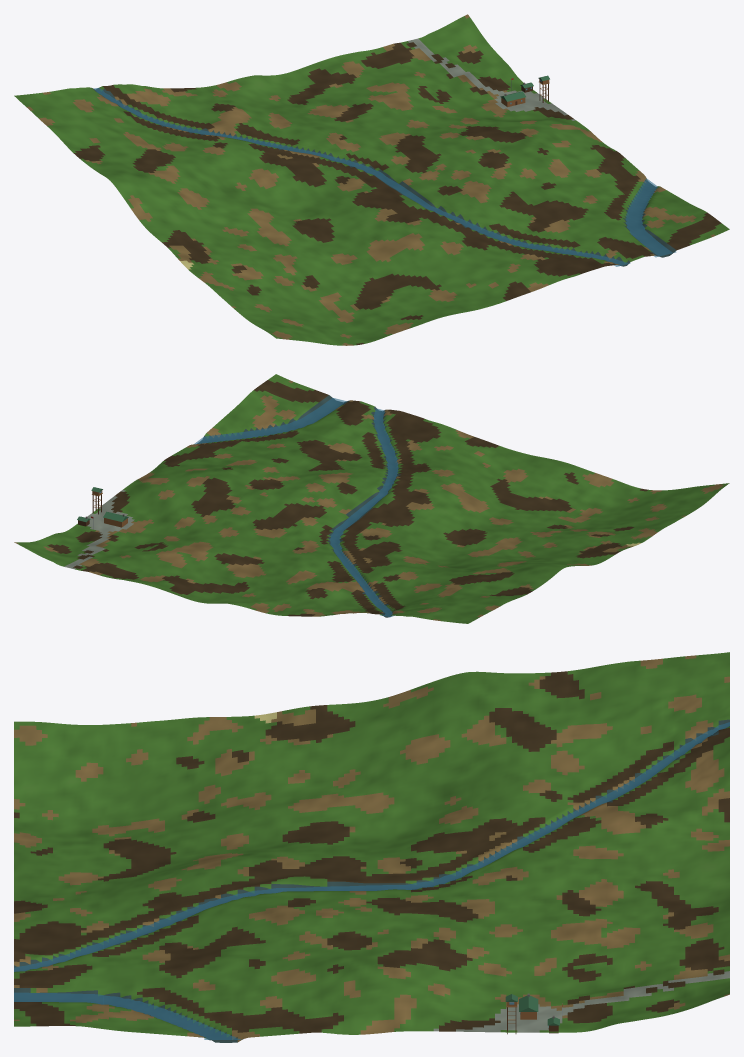
File: chunk_1_3.glb
The picture shows the model from 3 angles, top to bottom: view 1: azimuth 30°, elevation 25°; view 2: azimuth 150°, elevation 25°; view 3: azimuth 270°, elevation 25°; orthographic projection. The views are drawn at different scales.
Visible parts, largest first — view 1: Surface_Grass, Surface_Mud, Surface_Dirt, Surface_Water, Water, Surface_Gravel, Structure_pinewatch_station; view 2: Surface_Grass, Surface_Mud, Surface_Dirt, Surface_Water, Water, Surface_Gravel, Structure_pinewatch_station; view 3: Surface_Grass, Surface_Mud, Surface_Dirt, Surface_Water, Water, Surface_Gravel, Structure_pinewatch_station.
Boxes of the visible parts, <box> form: Surface_Grass: <box>14,16,729,345</box>; Surface_Mud: <box>73,42,721,344</box>; Surface_Dirt: <box>26,14,715,345</box>; Surface_Water: <box>92,88,676,266</box>; Water: <box>94,88,675,266</box>; Surface_Gravel: <box>408,38,575,120</box>; Structure_pinewatch_station: <box>500,75,549,107</box>; Surface_Grass: <box>16,374,729,623</box>; Surface_Mud: <box>47,380,647,616</box>; Surface_Dirt: <box>14,380,723,620</box>; Surface_Water: <box>197,395,400,617</box>; Water: <box>194,398,398,616</box>; Surface_Gravel: <box>64,490,134,569</box>; Structure_pinewatch_station: <box>77,487,128,529</box>; Surface_Grass: <box>14,652,729,1038</box>; Surface_Mud: <box>14,671,729,1033</box>; Surface_Dirt: <box>14,655,729,1042</box>; Surface_Water: <box>14,719,729,1042</box>; Water: <box>14,722,729,1039</box>; Surface_Gravel: <box>433,971,729,1032</box>; Structure_pinewatch_station: <box>505,993,562,1034</box>.
Bounding box in the file's own units: 256 × 43.74 × 256.
